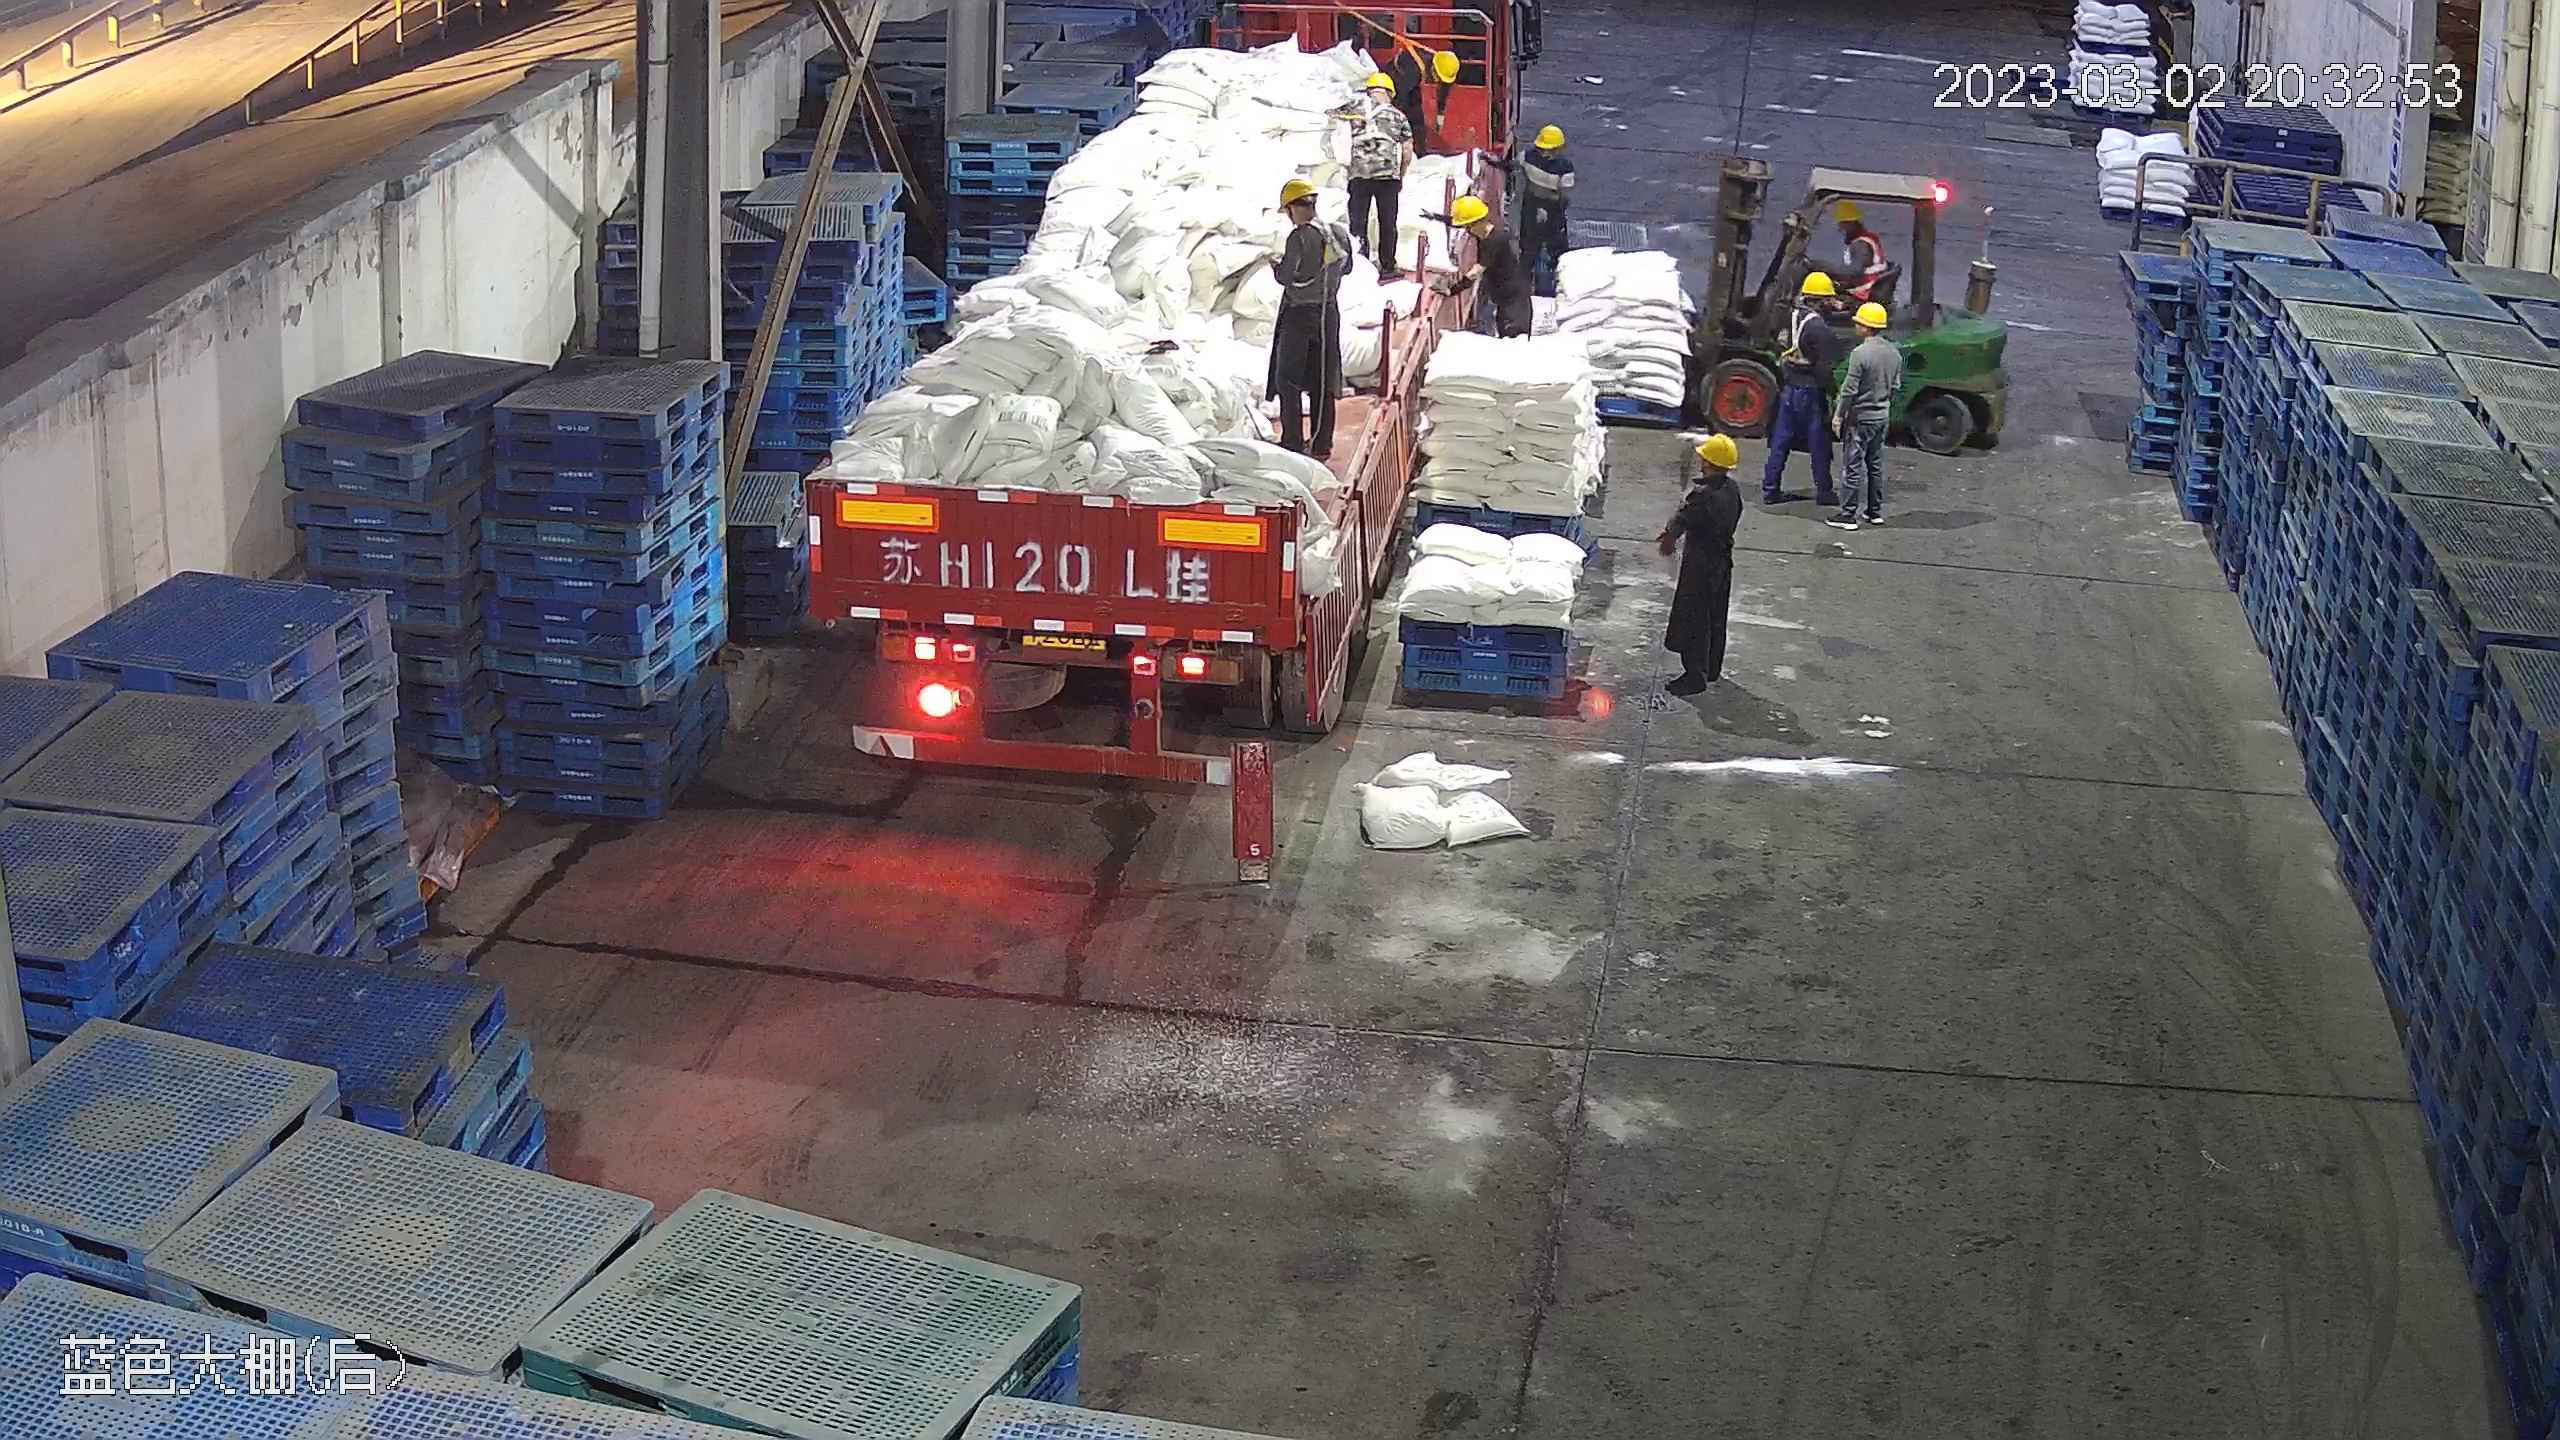belt: (1346, 102, 1400, 166), (1290, 219, 1344, 281), (1388, 30, 1439, 79), (1782, 304, 1816, 368)
head: (1673, 431, 1743, 524), (1447, 188, 1520, 275), (1274, 174, 1339, 265), (1784, 269, 1849, 345), (1340, 67, 1403, 137), (1514, 124, 1572, 191), (1826, 197, 1883, 266), (1840, 300, 1891, 368), (1413, 49, 1460, 89)
helmet: (1414, 48, 1460, 86), (1693, 433, 1738, 468), (1278, 175, 1321, 206), (1456, 192, 1491, 223), (1356, 65, 1394, 93), (1850, 300, 1885, 328), (1800, 269, 1838, 296), (1832, 197, 1865, 221), (1533, 124, 1564, 148)
people: (1250, 173, 1345, 461), (1656, 428, 1743, 700), (1767, 269, 1850, 517), (1450, 156, 1569, 322), (1338, 68, 1417, 275), (1824, 297, 1892, 532), (1510, 122, 1575, 310), (1386, 37, 1454, 154)
truck: (801, 14, 1465, 783)
